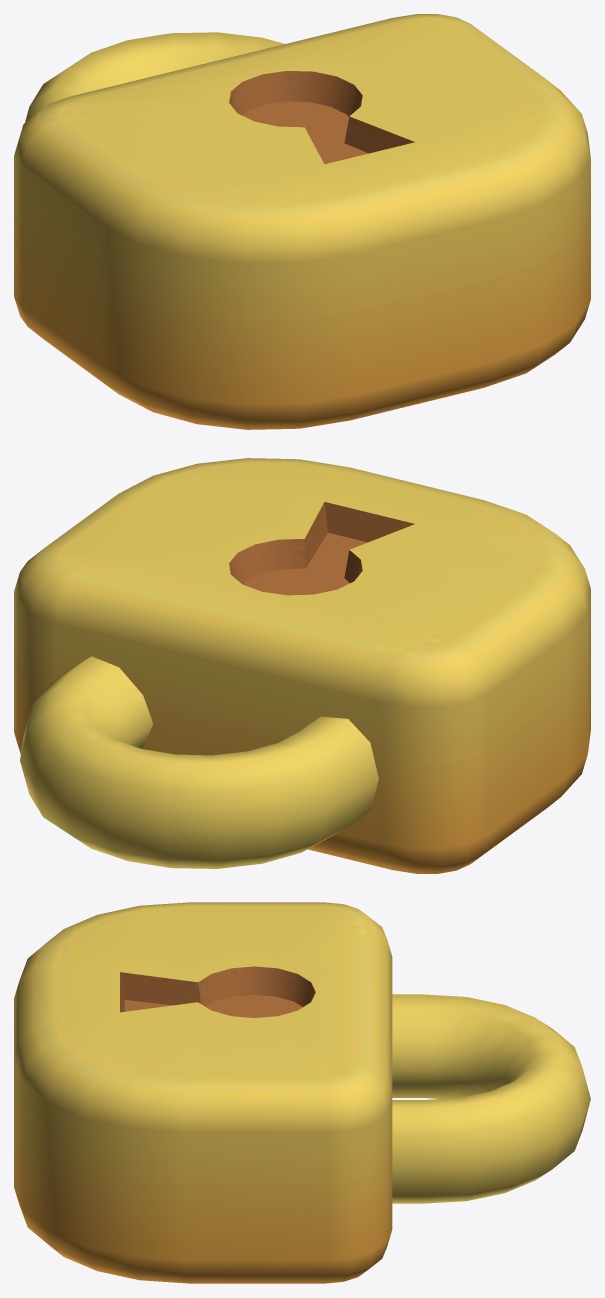
The model's file is Lock.fbx.
3 renders of one model, top to bottom at view 1: azimuth 30°, elevation 25°; view 2: azimuth 150°, elevation 25°; view 3: azimuth 270°, elevation 25°, orthographic. The views are drawn at different scales.
Visible parts, largest first — view 1: GameObject; view 2: GameObject; view 3: GameObject.
Boxes of the visible parts, box(x1,y1,x2,y2) form: GameObject: box(14, 14, 590, 429); GameObject: box(14, 458, 590, 873); GameObject: box(14, 902, 590, 1283).
Size of the model in its own units: 33.55 by 15.25 by 39.58.
